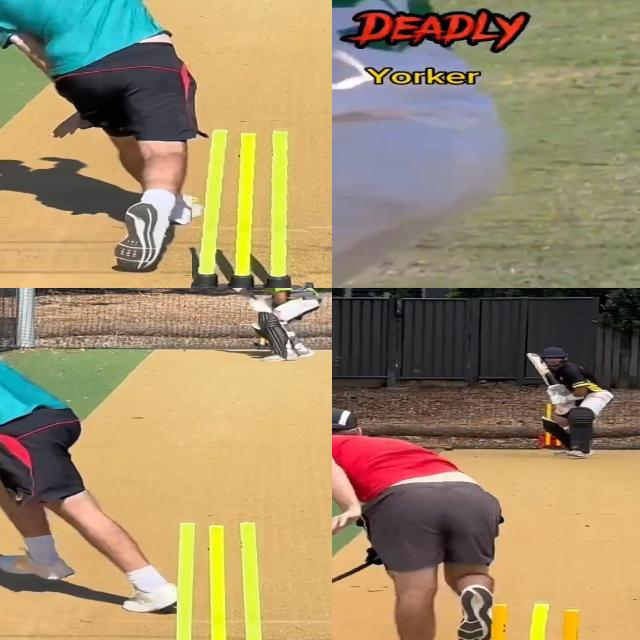Stumps: (191, 123, 316, 288), (158, 520, 284, 640), (474, 600, 597, 640)
